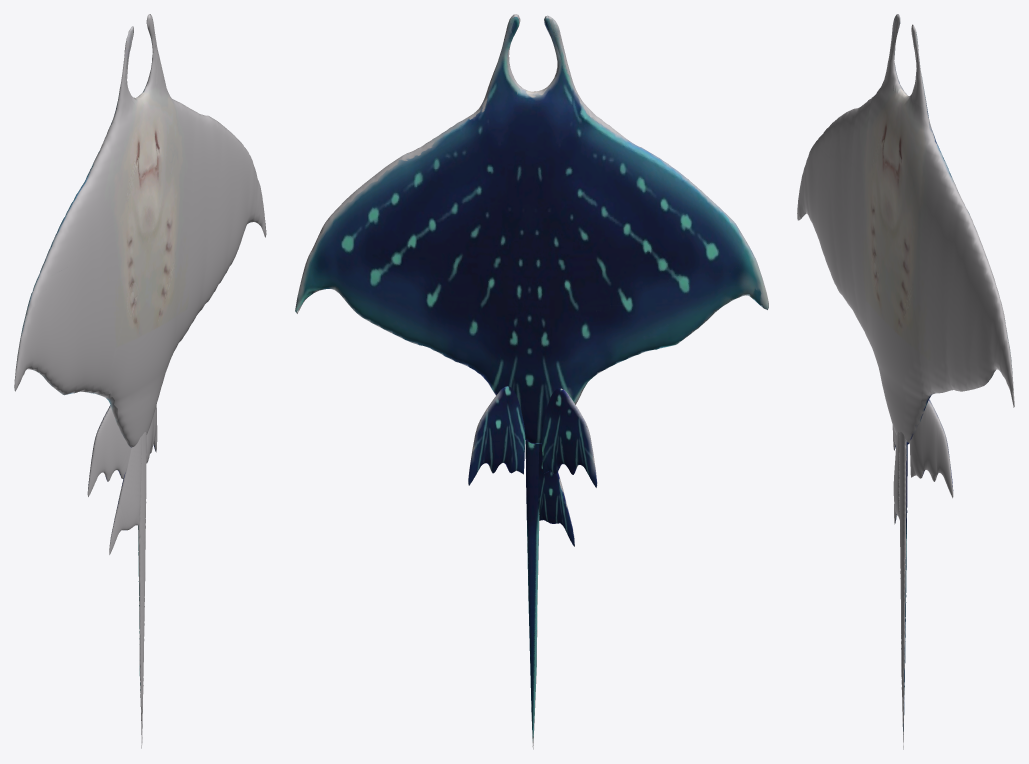
Rendered from stingout.fbx.
The picture shows the model from 3 angles, left to right: view 1: azimuth 30°, elevation 25°; view 2: azimuth 150°, elevation 25°; view 3: azimuth 270°, elevation 25°; orthographic projection.
Visible parts, largest first — view 1: node_id119.004; view 2: node_id119.004; view 3: node_id119.004.
Part boxes in pixels (left/top/right/bottom): node_id119.004: left=14, top=14, right=266, bottom=748; node_id119.004: left=295, top=14, right=768, bottom=749; node_id119.004: left=797, top=14, right=1014, bottom=749.
Bounding box in the file's own units: 34.32 × 66.31 × 17.89.
